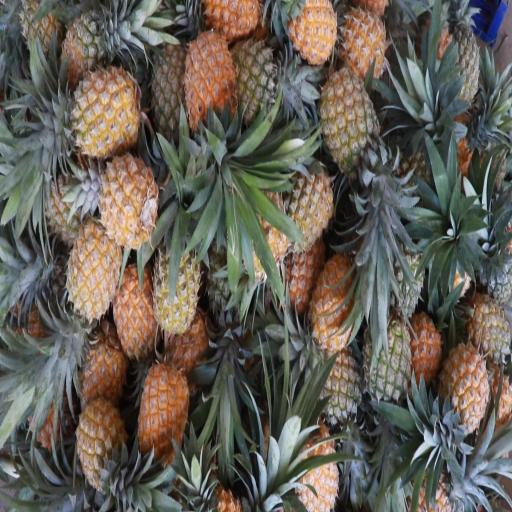------------------------------: (316, 48, 382, 172), (307, 324, 363, 432), (150, 212, 200, 327), (225, 36, 286, 119), (58, 0, 108, 90), (459, 290, 512, 372)
Pineapple - v8 v1: (48, 63, 142, 164), (98, 145, 162, 258), (282, 394, 341, 512), (61, 214, 122, 326), (172, 18, 234, 127), (305, 236, 363, 352), (130, 344, 187, 452), (438, 342, 488, 458), (68, 384, 126, 482), (275, 154, 332, 251), (109, 246, 161, 346), (336, 0, 399, 78)
